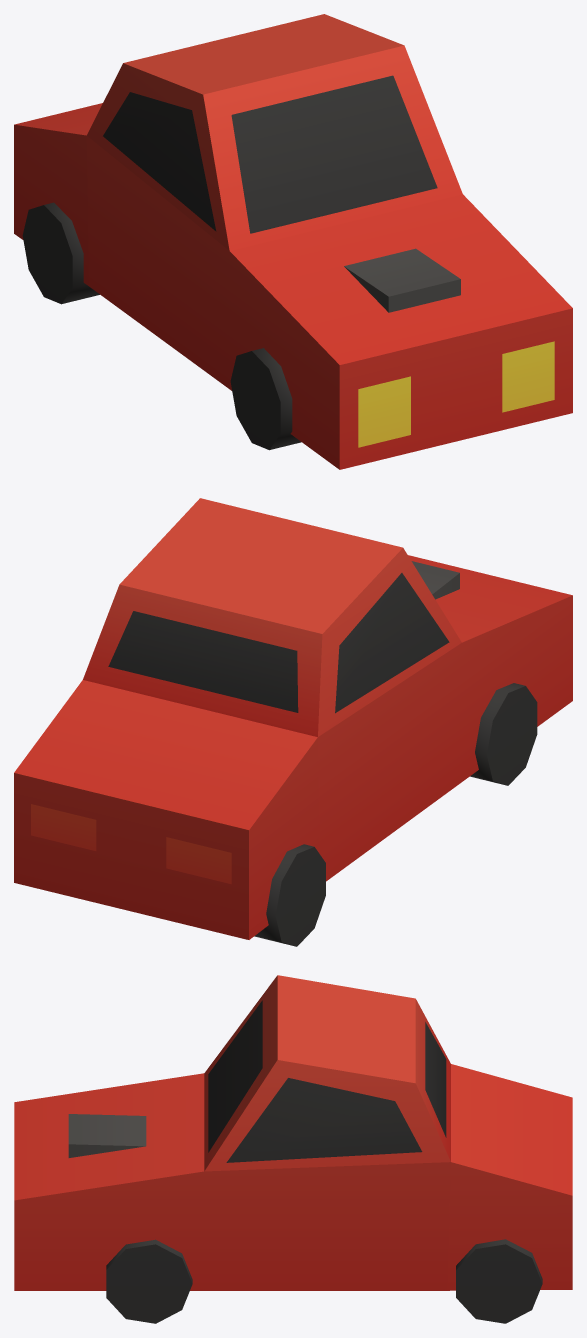
File: Car_7_2.fbx
3 views of the same model, one above another, from view 1: azimuth 30°, elevation 25°; view 2: azimuth 150°, elevation 25°; view 3: azimuth 270°, elevation 25° (orthographic). The views are drawn at different scales.
Visible parts, largest first — view 1: Car_7_2; view 2: Car_7_2; view 3: Car_7_2.
Boxes of the visible parts, left/top/right/bottom form: Car_7_2: left=14, top=14, right=572, bottom=469; Car_7_2: left=14, top=498, right=572, bottom=946; Car_7_2: left=14, top=975, right=572, bottom=1323.
Bounding box in the file's own units: 212 × 231 × 464.
